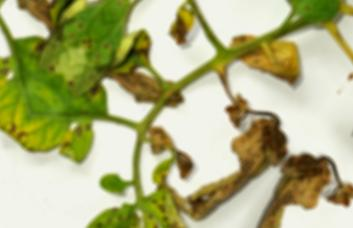Tomato Septoria leaf spot: (54, 0, 231, 118), (0, 55, 137, 201), (68, 168, 224, 228)
